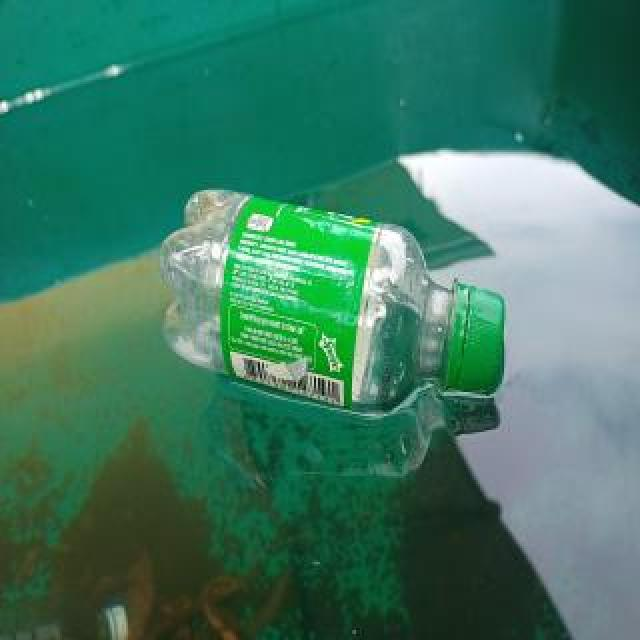Plastic Bottle: (153, 178, 509, 422)
